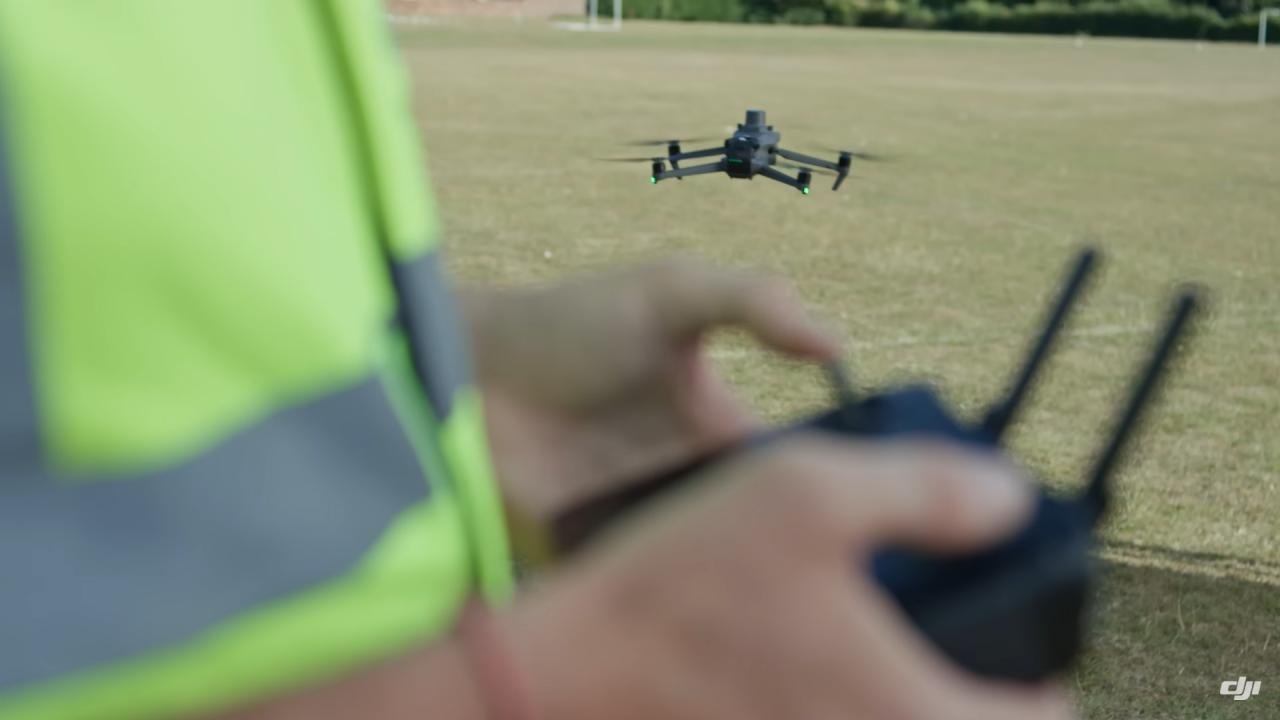Drone: (582, 94, 922, 223)
